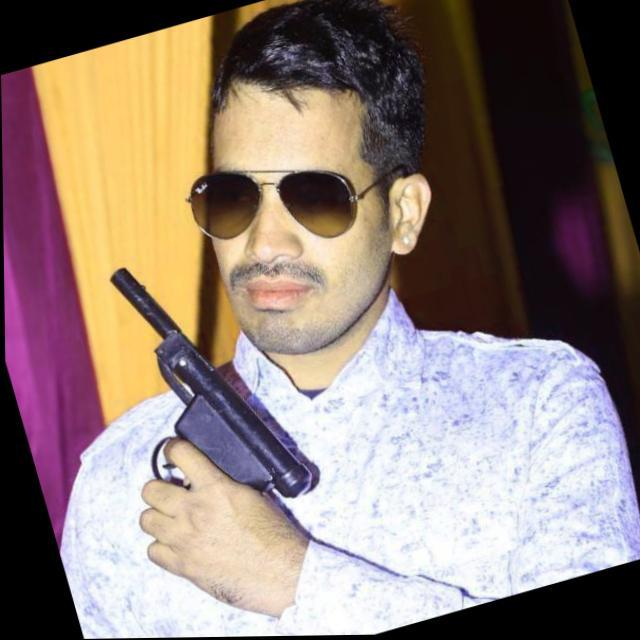weapon: (66, 224, 334, 572)
